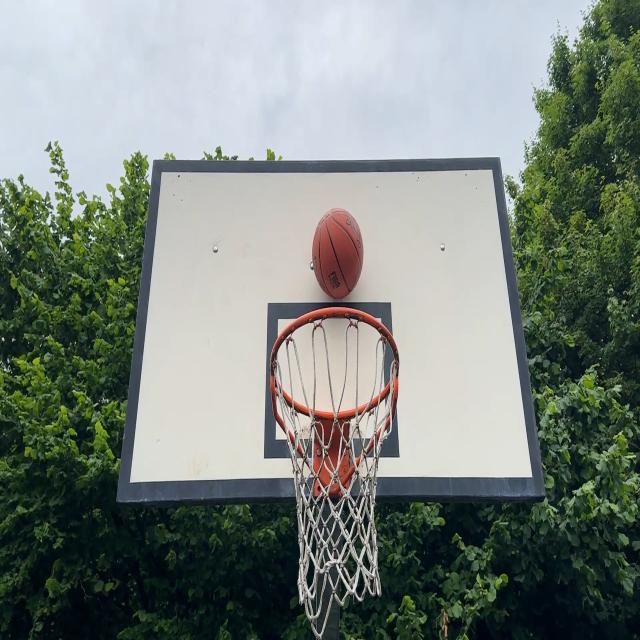rebound_hit: (312, 206, 364, 301)
